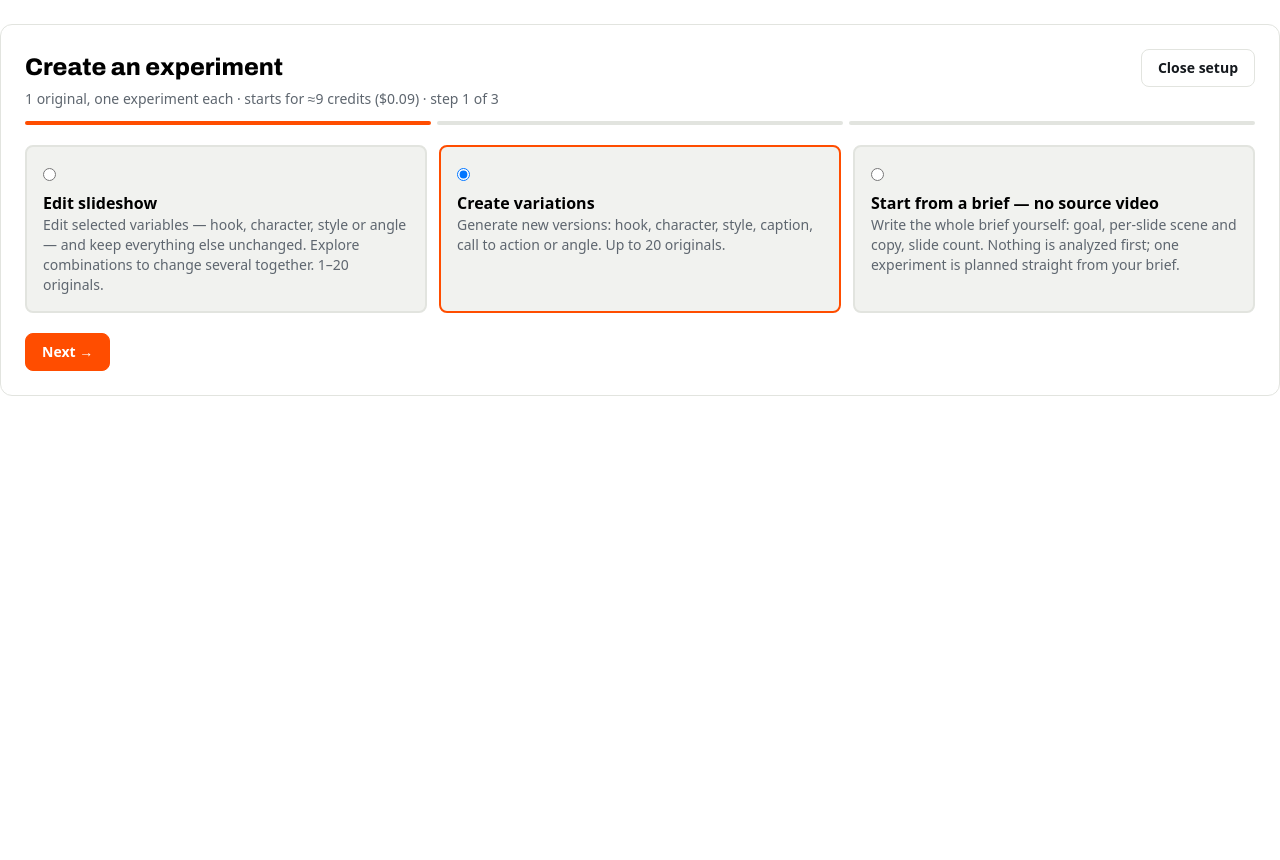
it: allows concept/slide exploration but strips them when returning to controlled
Click the button "Next →" at (68, 352), box 25,333 -> 110,371
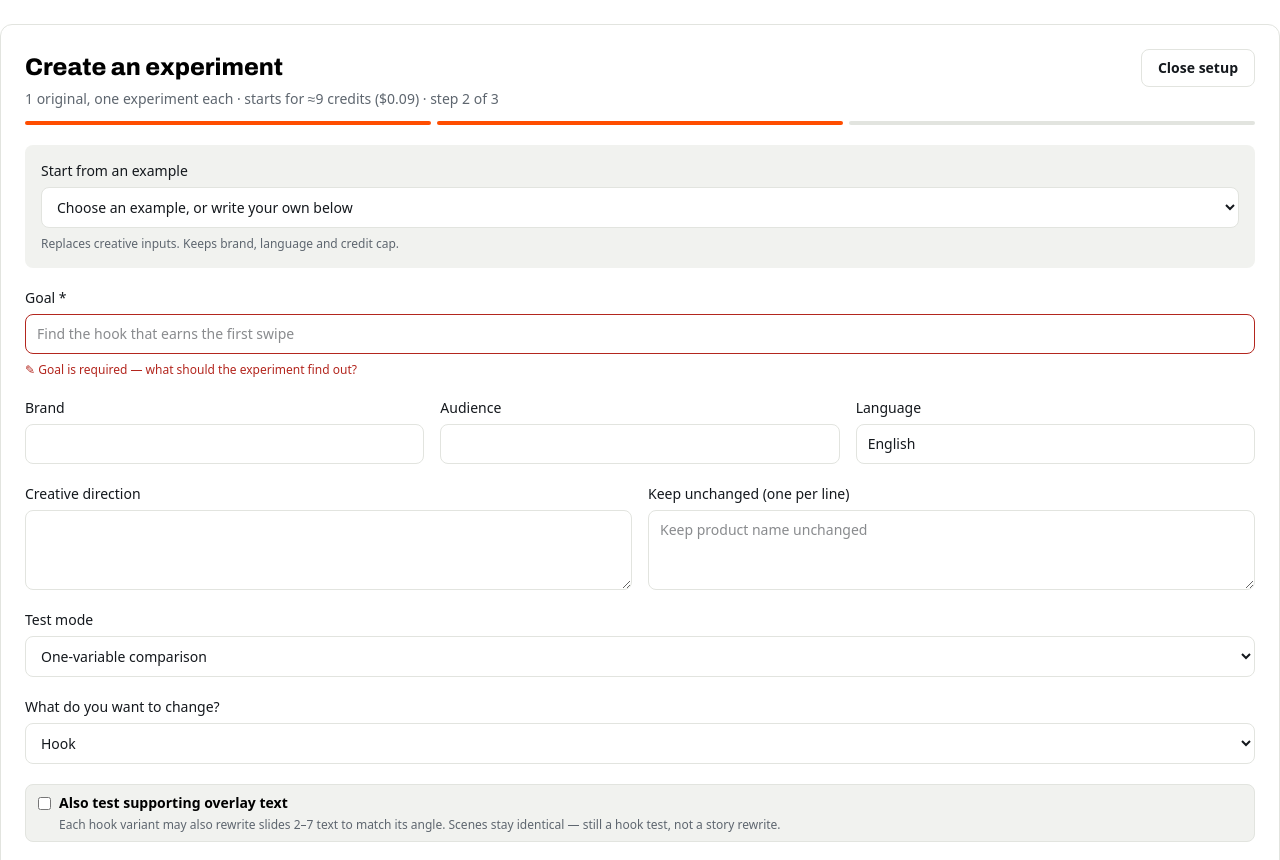
Select "Explore combinations" in the dropdown labelled "Test mode" at (640, 656), box 25,636 -> 1255,677
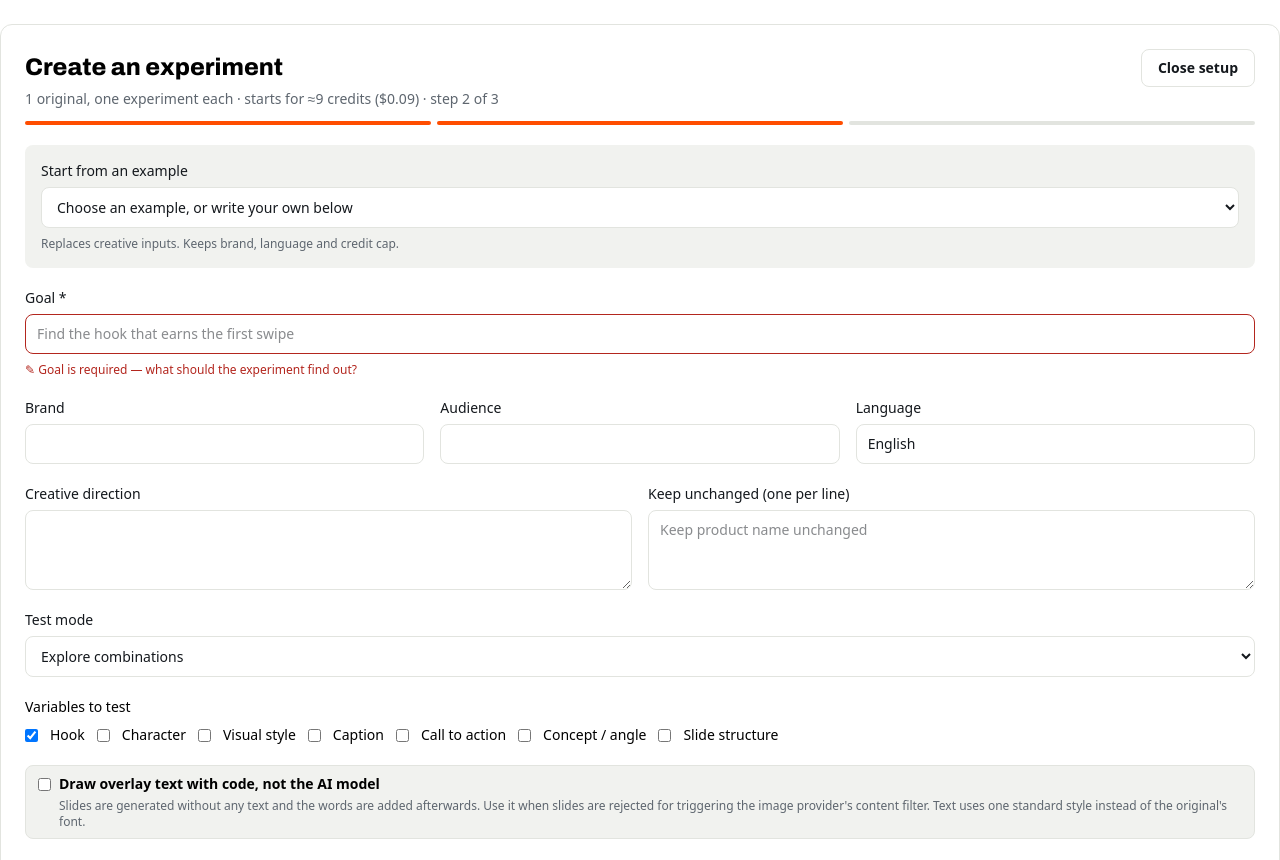
Click the checkbox labelled "Concept / angle" at (525, 735), box 518,728 -> 531,742
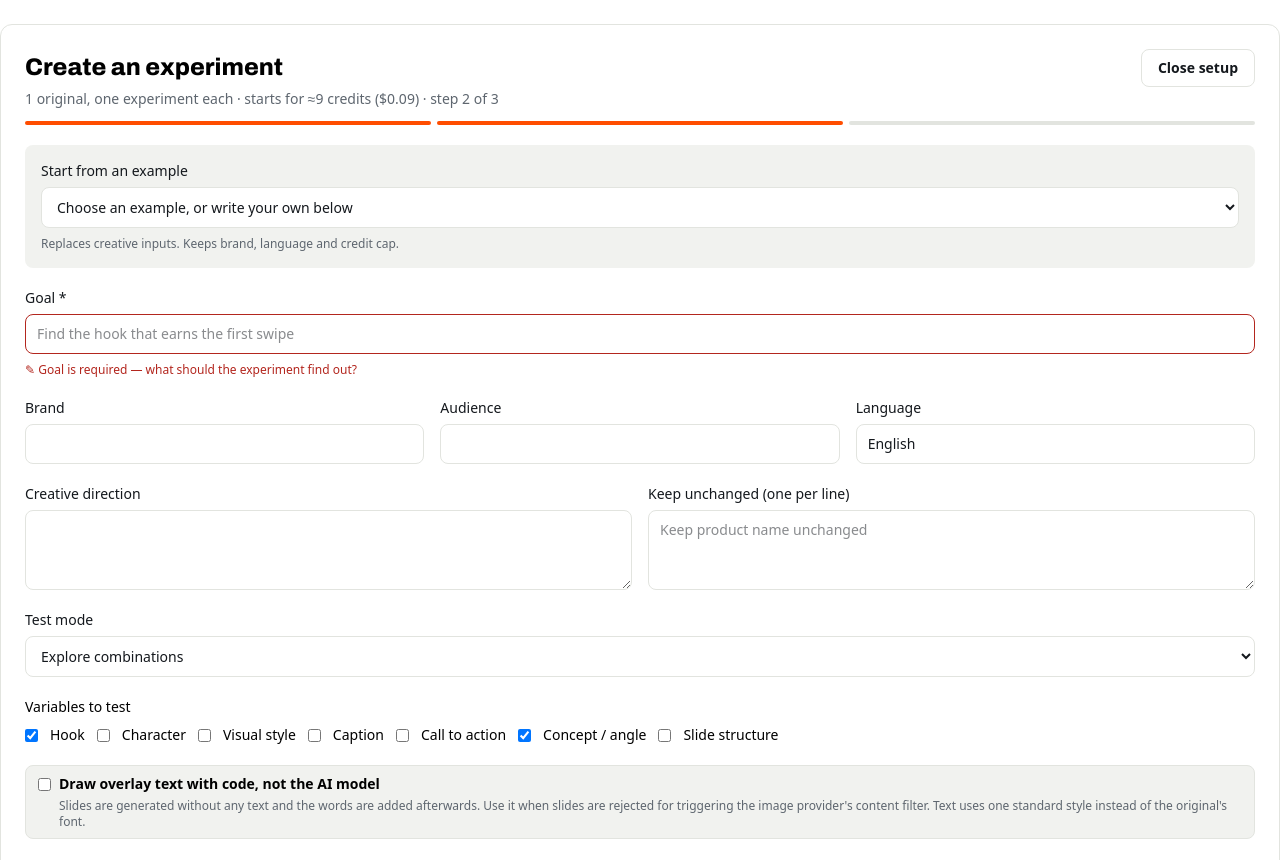
Select "One-variable comparison" in the dropdown labelled "Test mode" at (640, 656), box 25,636 -> 1255,677
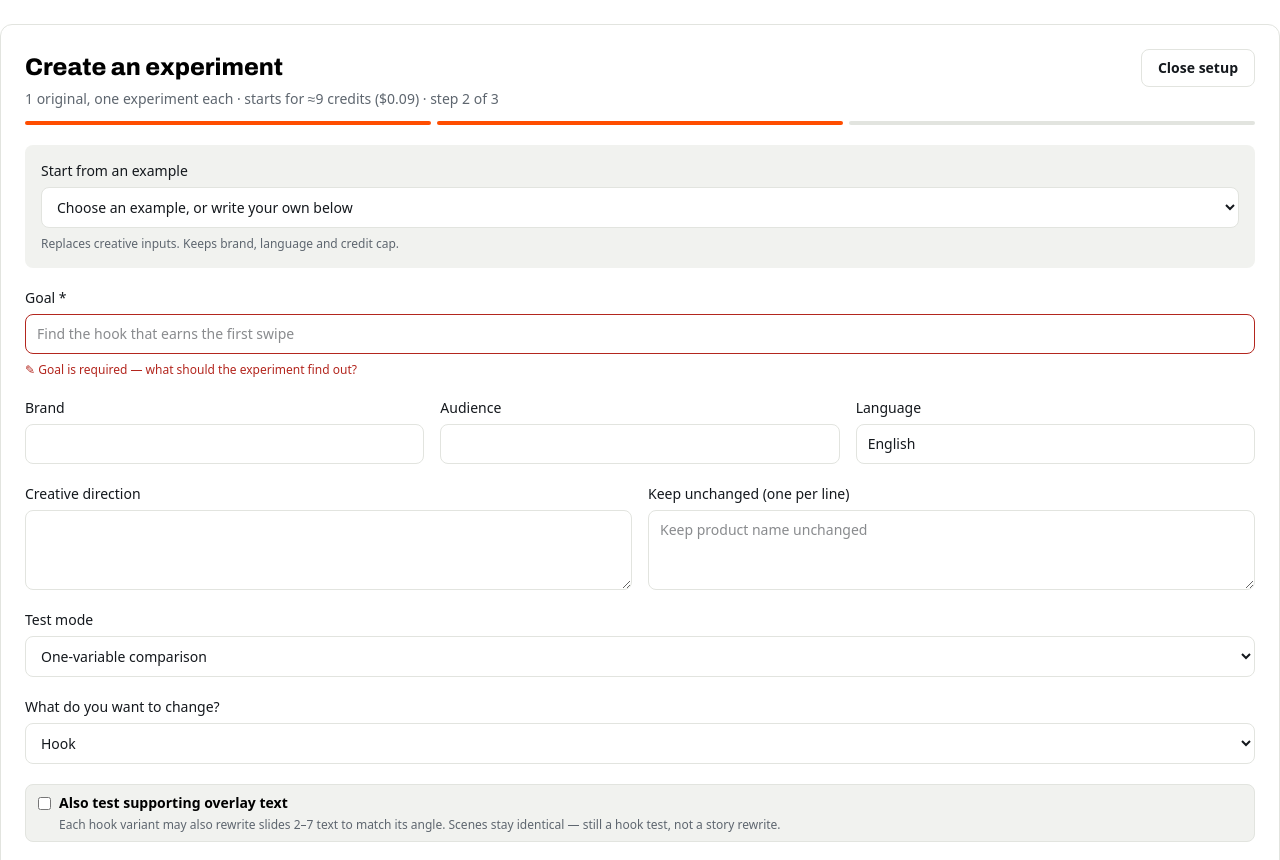
Expected: the label "Concept / angle" is gone
